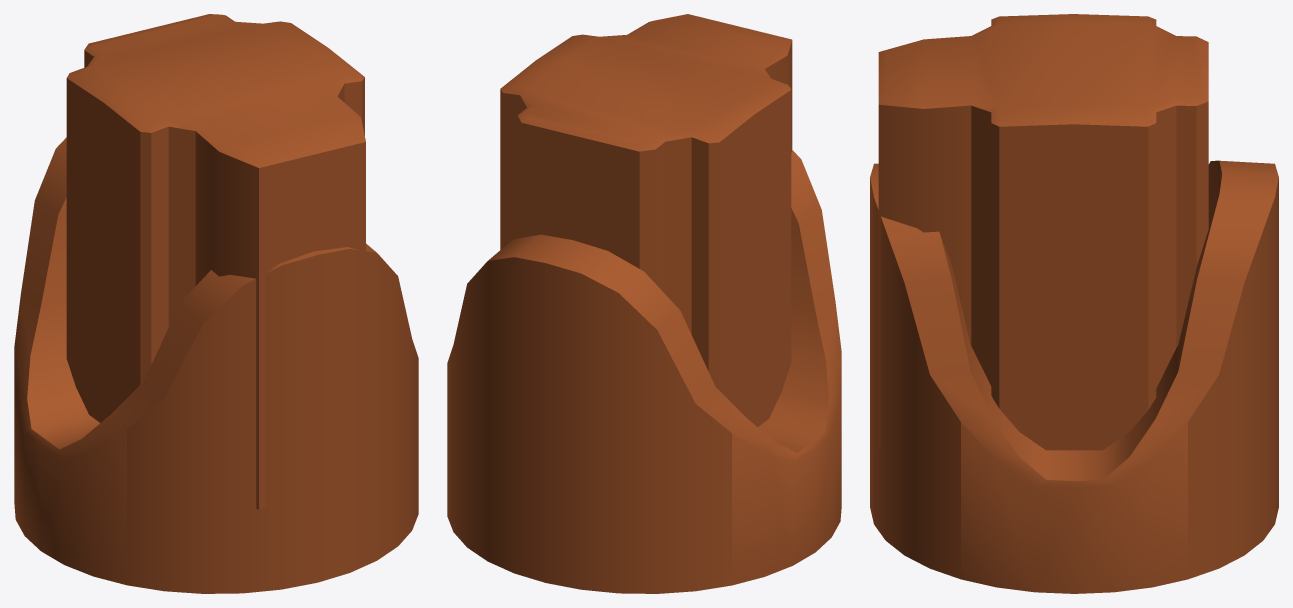
Rendered from RobotArm_ToolMotor.glb.
The picture shows the model from 3 angles, left to right: view 1: azimuth 30°, elevation 25°; view 2: azimuth 150°, elevation 25°; view 3: azimuth 270°, elevation 25°; orthographic projection. The views are drawn at different scales.
Parts seen in each view (by area): view 1: RobotArmToolMotor; view 2: RobotArmToolMotor; view 3: RobotArmToolMotor.
Boxes of the visible parts, x1,y1,x2,y2 form: RobotArmToolMotor: (14, 14, 418, 593); RobotArmToolMotor: (447, 14, 841, 593); RobotArmToolMotor: (870, 14, 1278, 593).
Size of the model in its own units: 0.2032 by 0.2434 by 0.2032.
